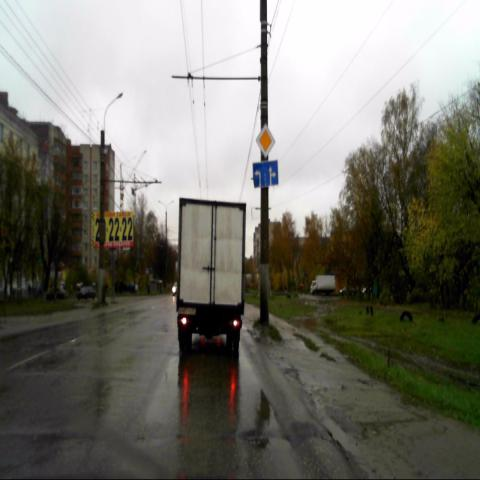5_15_2_2: (252, 161, 278, 188)
